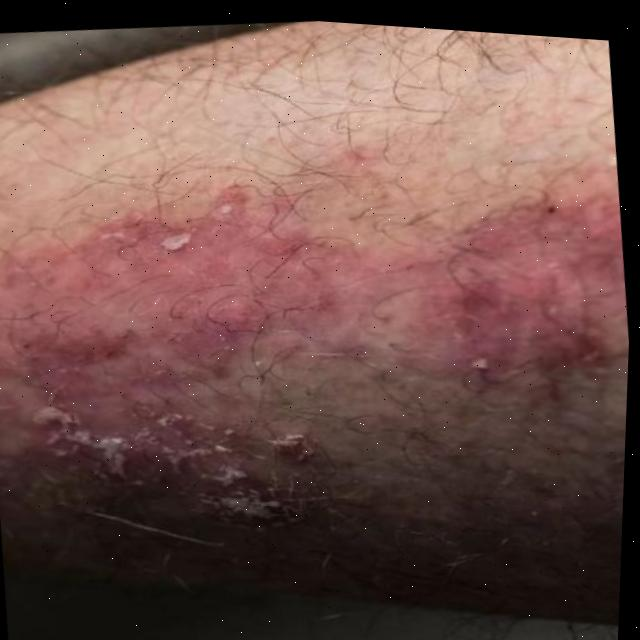Eczema: (0, 115, 636, 567)
